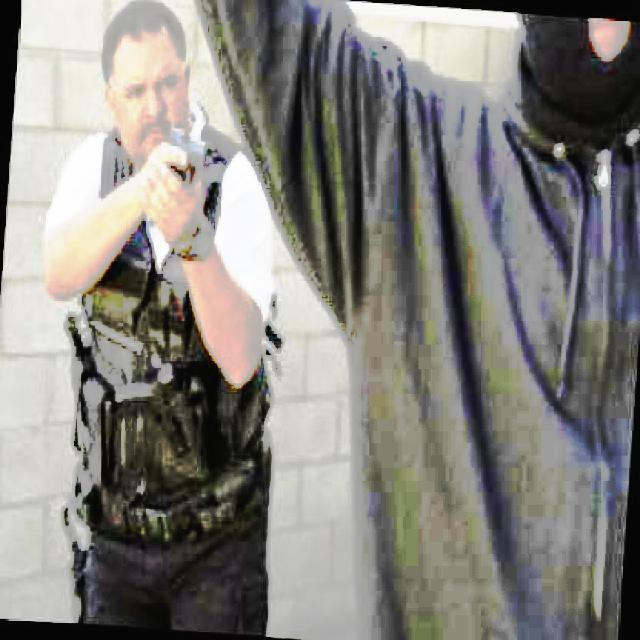Gun: (162, 122, 243, 196)
